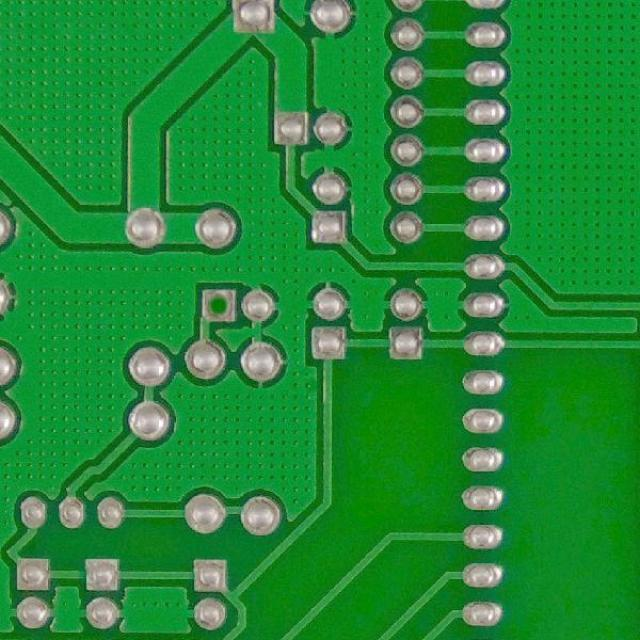Missing_Hole: (196, 284, 238, 325)
